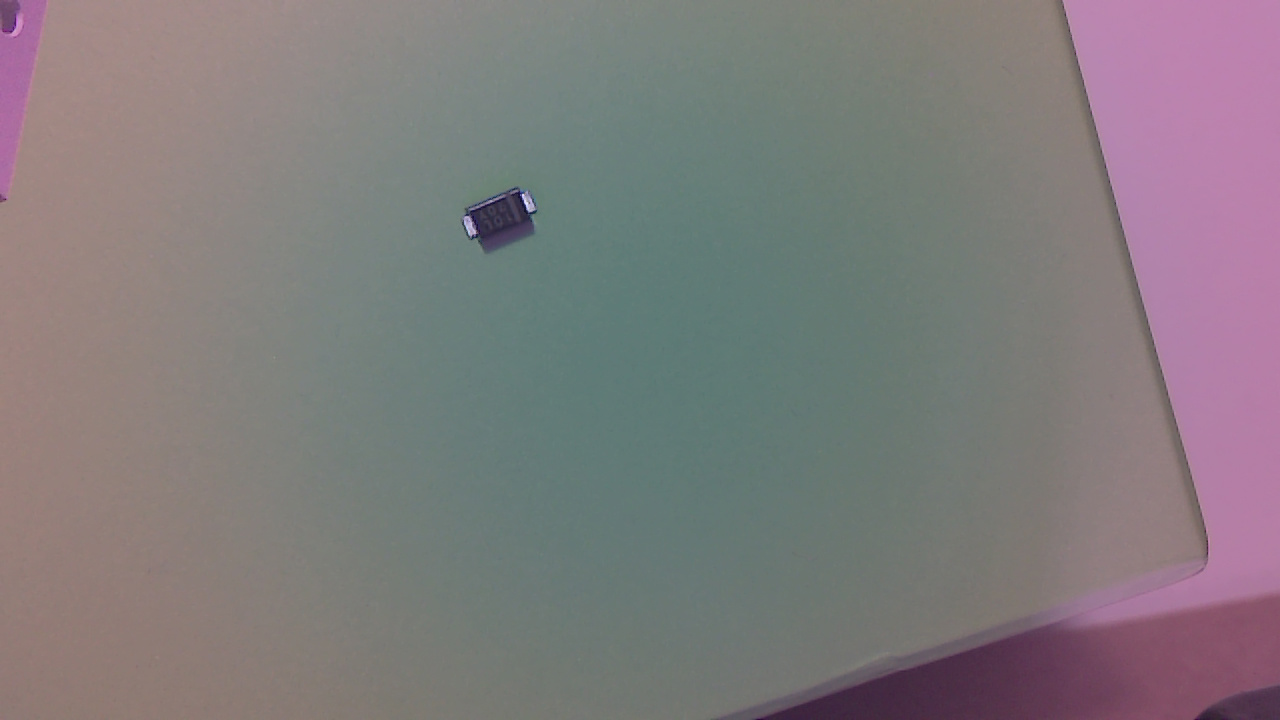Diode: (463, 187, 543, 256)
